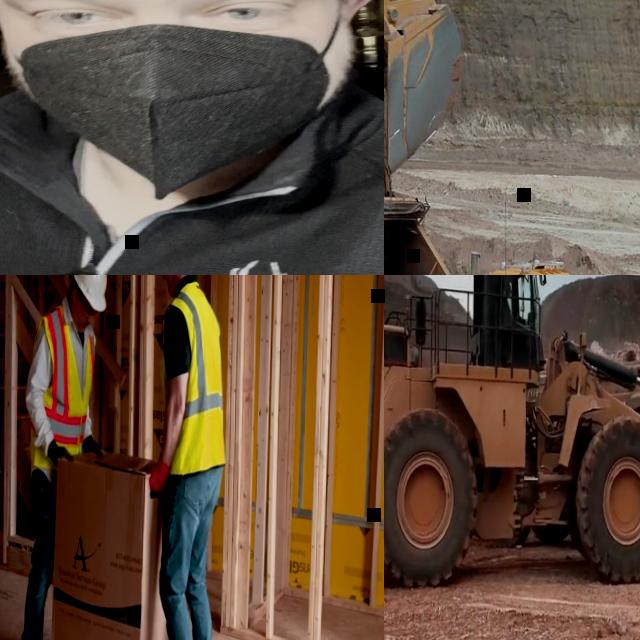Hardhat: (74, 275, 108, 310)
Mask: (0, 0, 352, 200)
NO-Mask: (163, 275, 178, 297), (76, 315, 87, 335)
NO-Safety Vest: (0, 92, 384, 275)
Person: (0, 0, 384, 275), (147, 275, 231, 640), (21, 275, 104, 640), (504, 283, 521, 325)
Safety Vest: (159, 288, 231, 478), (27, 300, 97, 482)
vehicle: (384, 275, 640, 596), (384, 162, 640, 275), (384, 0, 468, 176)
